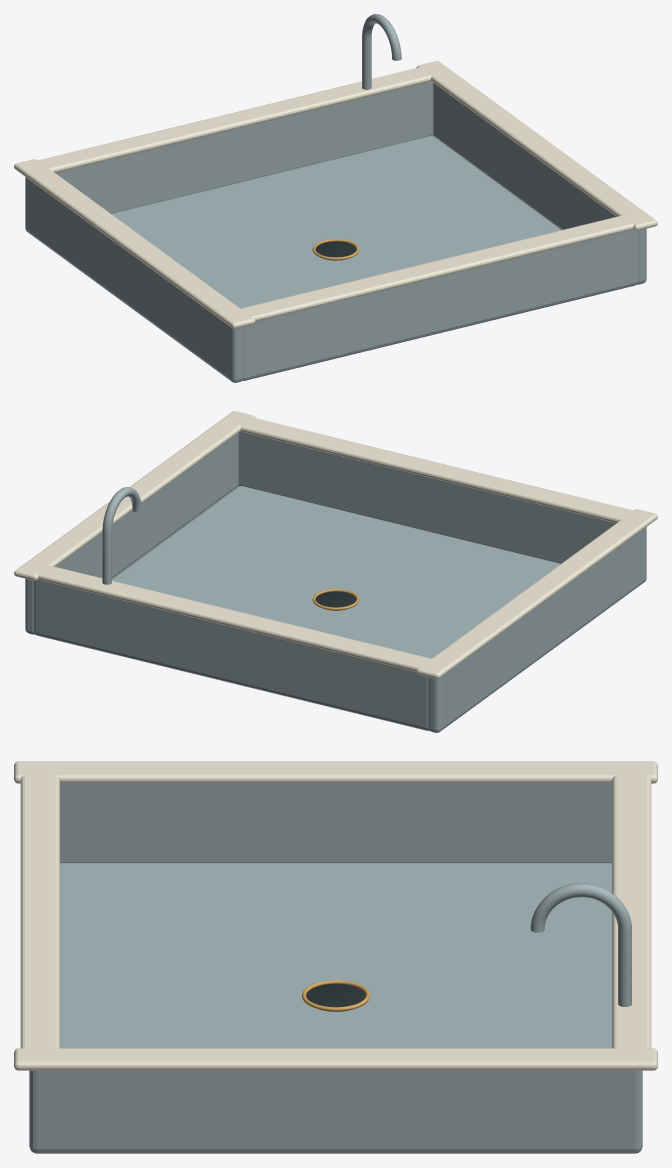
File: IceSink.glb
3 views of the same model, one above another, from view 1: azimuth 30°, elevation 25°; view 2: azimuth 150°, elevation 25°; view 3: azimuth 270°, elevation 25° (orthographic). The views are drawn at different scales.
Parts seen in each view (by area): view 1: BasinBottom, BasinWall.002, BasinWall.003, BasinWall, BasinWall.001, EnamelRim.002, EnamelRim.003, EnamelRim, EnamelRim.001, Faucet, Drain; view 2: BasinBottom, BasinWall.003, BasinWall.002, BasinWall, BasinWall.001, EnamelRim.002, EnamelRim.003, EnamelRim, EnamelRim.001, Faucet, Drain; view 3: BasinBottom, BasinWall.001, BasinWall, EnamelRim.001, EnamelRim, EnamelRim.002, EnamelRim.003, Faucet, Drain, DrainRim.
Part boxes in pixels (box(x1,y1,x2,y2)): BasinBottom: box(111, 135, 561, 308); BasinWall.002: box(242, 229, 637, 380); BasinWall.003: box(55, 81, 433, 213); BasinWall: box(25, 177, 243, 382); BasinWall.001: box(433, 83, 646, 284); EnamelRim.002: box(235, 215, 634, 321); EnamelRim.003: box(33, 67, 431, 172); EnamelRim: box(14, 159, 255, 328); EnamelRim.001: box(416, 61, 657, 230); Faucet: box(362, 14, 401, 89); Drain: box(315, 241, 356, 260); BasinBottom: box(112, 486, 560, 658); BasinWall.003: box(34, 579, 429, 730); BasinWall.002: box(238, 431, 616, 563); BasinWall: box(428, 527, 646, 732); BasinWall.001: box(25, 433, 238, 634); EnamelRim.002: box(240, 417, 638, 522); EnamelRim.003: box(37, 565, 436, 671); EnamelRim: box(416, 509, 657, 678); EnamelRim.001: box(14, 411, 255, 580); Faucet: box(102, 487, 141, 584); Drain: box(315, 591, 356, 610); BasinBottom: box(60, 863, 611, 1048); BasinWall.001: box(29, 1070, 642, 1153); BasinWall: box(60, 783, 611, 862); EnamelRim.001: box(14, 1048, 657, 1070); EnamelRim: box(14, 761, 657, 783); EnamelRim.002: box(20, 771, 59, 1052); EnamelRim.003: box(612, 771, 651, 1052); Faucet: box(530, 883, 631, 1006); Drain: box(306, 983, 365, 1011); DrainRim: box(302, 980, 369, 1011).
Size of the model in its own units: 16.4 by 5.59 by 14.7.
